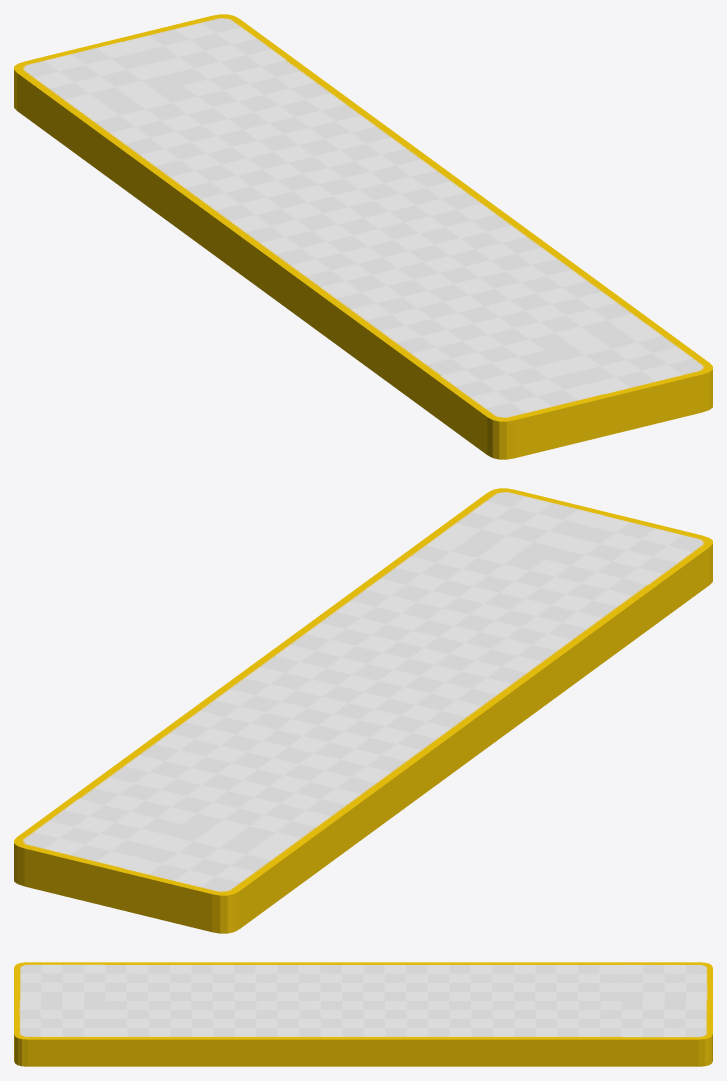
File: TilePlatform.fbx
3 views of the same model, one above another, from view 1: azimuth 30°, elevation 25°; view 2: azimuth 150°, elevation 25°; view 3: azimuth 270°, elevation 25° (orthographic). The views are drawn at different scales.
Parts seen in each view (by area): view 1: tile_top_right_Clone_, tile_top_left_Clone_, tile_bottom_right_Clone_, tile_right_Clone__1, tile_right_Clone__5, tile_right_Clone__2, tile_right_Clone__4, tile_right_Clone__3, tile_right_Clone_, tile_left_bottom_Clone_, tile_left_Clone__4, tile_left_Clone_ (+4 smaller); view 2: tile_bottom_right_Clone_, tile_left_bottom_Clone_, tile_top_right_Clone_, tile_right_Clone__4, tile_right_Clone__1, tile_right_Clone__3, tile_right_Clone_, tile_right_Clone__5, tile_right_Clone__2, tile_top_left_Clone_, tile_left_Clone__5, tile_left_Clone__1 (+4 smaller); view 3: tile_left_bottom_Clone_, tile_top_left_Clone_, tile_left_Clone_, tile_left_Clone__1, tile_left_Clone__2, tile_left_Clone__3, tile_left_Clone__4, tile_left_Clone__5, tile_bottom_right_Clone_, tile_top_right_Clone_, tile_right_Clone_, tile_right_Clone__1 (+4 smaller).
Boxes of the visible parts, left/top/right/bottom form: tile_top_right_Clone_: left=433, top=350, right=608, bottom=459; tile_top_left_Clone_: left=544, top=323, right=712, bottom=435; tile_bottom_right_Clone_: left=14, top=38, right=182, bottom=150; tile_right_Clone__1: left=131, top=129, right=302, bottom=238; tile_right_Clone__5: left=372, top=306, right=543, bottom=414; tile_right_Clone__2: left=192, top=174, right=362, bottom=282; tile_right_Clone__4: left=312, top=262, right=483, bottom=370; tile_right_Clone__3: left=252, top=218, right=423, bottom=326; tile_right_Clone_: left=71, top=85, right=241, bottom=194; tile_left_bottom_Clone_: left=118, top=14, right=293, bottom=85; tile_left_Clone__4: left=424, top=235, right=594, bottom=305; tile_left_Clone_: left=183, top=58, right=353, bottom=129; tile_bottom_right_Clone_: left=118, top=824, right=293, bottom=933; tile_left_bottom_Clone_: left=14, top=797, right=182, bottom=909; tile_top_right_Clone_: left=544, top=512, right=712, bottom=624; tile_right_Clone__4: left=424, top=604, right=595, bottom=712; tile_right_Clone__1: left=243, top=736, right=414, bottom=844; tile_right_Clone__3: left=363, top=648, right=534, bottom=756; tile_right_Clone_: left=182, top=780, right=354, bottom=888; tile_right_Clone__5: left=484, top=559, right=655, bottom=668; tile_right_Clone__2: left=304, top=692, right=474, bottom=800; tile_top_left_Clone_: left=433, top=488, right=607, bottom=559; tile_left_Clone__5: left=373, top=532, right=543, bottom=603; tile_left_Clone__1: left=132, top=709, right=302, bottom=779; tile_left_bottom_Clone_: left=621, top=1001, right=712, bottom=1066; tile_top_left_Clone_: left=14, top=1001, right=105, bottom=1066; tile_left_Clone_: left=535, top=1001, right=621, bottom=1066; tile_left_Clone__1: left=449, top=1001, right=535, bottom=1066; tile_left_Clone__2: left=363, top=1001, right=449, bottom=1066; tile_left_Clone__3: left=277, top=1001, right=363, bottom=1066; tile_left_Clone__4: left=191, top=1001, right=277, bottom=1066; tile_left_Clone__5: left=105, top=1001, right=191, bottom=1066; tile_bottom_right_Clone_: left=621, top=962, right=712, bottom=1000; tile_top_right_Clone_: left=14, top=962, right=105, bottom=1000; tile_right_Clone_: left=535, top=962, right=621, bottom=1000; tile_right_Clone__1: left=449, top=962, right=535, bottom=1000.
Size of the model in its own units: 1448 by 237 by 5528.
